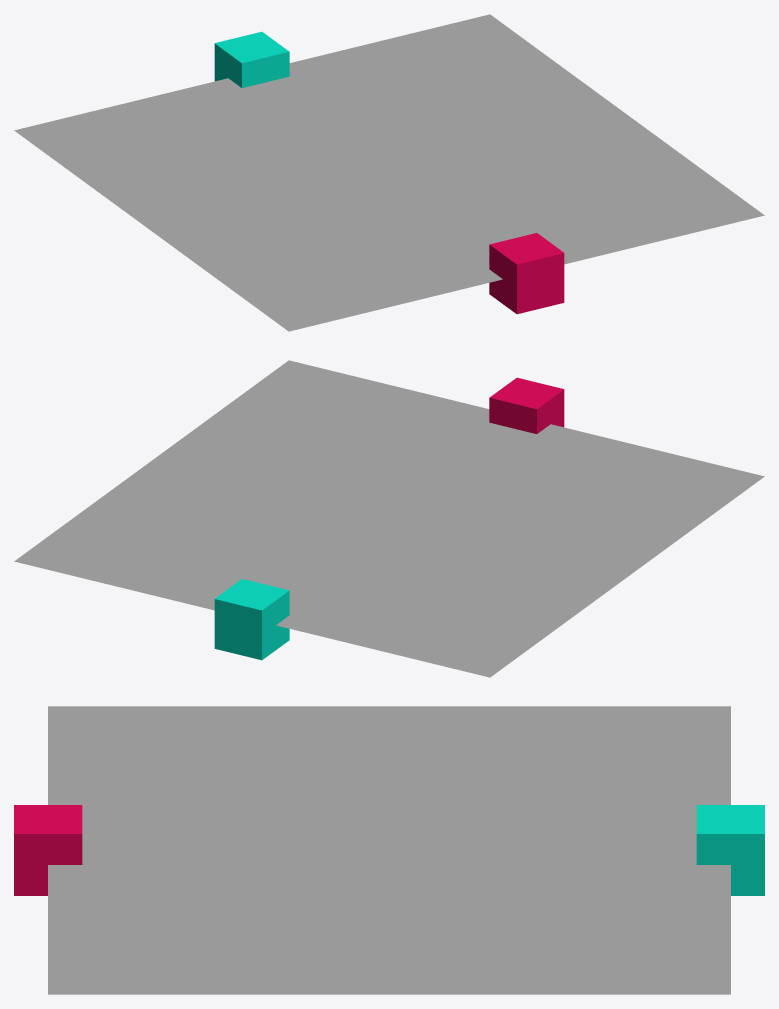
File: rm_003_empty.fbx
The picture shows the model from 3 angles, top to bottom: view 1: azimuth 30°, elevation 25°; view 2: azimuth 150°, elevation 25°; view 3: azimuth 270°, elevation 25°; orthographic projection. The views are drawn at different scales.
Parts seen in each view (by area): view 1: ground_mesh, exit_marker, entrance_marker; view 2: ground_mesh, entrance_marker, exit_marker; view 3: ground_mesh, entrance_marker, exit_marker.
Boxes of the visible parts, <box> form: ground_mesh: <box>14,14,764,331</box>; exit_marker: <box>489,233,564,314</box>; entrance_marker: <box>214,31,289,87</box>; ground_mesh: <box>14,360,764,677</box>; entrance_marker: <box>214,579,289,660</box>; exit_marker: <box>489,377,564,433</box>; ground_mesh: <box>48,706,730,994</box>; entrance_marker: <box>696,805,764,895</box>; exit_marker: <box>14,805,82,895</box>.
Size of the model in its own units: 1000 by 100 by 1100.
